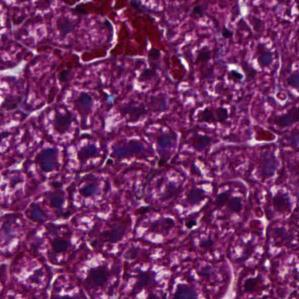inflammation: (29, 135, 82, 182), (75, 254, 118, 294), (192, 101, 231, 132)
